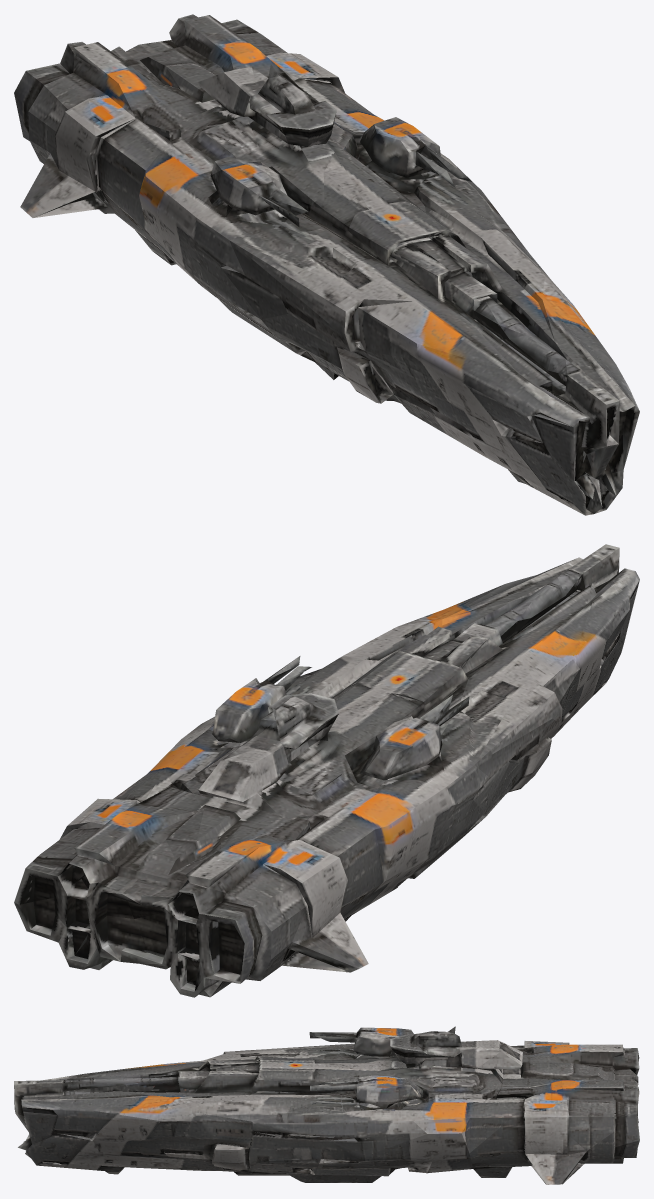
Rendered from hard-2000.glb.
3 views of the same model, one above another, from view 1: azimuth 30°, elevation 25°; view 2: azimuth 150°, elevation 25°; view 3: azimuth 270°, elevation 25° (orthographic). The views are drawn at different scales.
Parts seen in each view (by area): view 1: Low; view 2: Low; view 3: Low.
Boxes of the visible parts, left/top/right/bottom form: Low: left=14, top=14, right=639, bottom=515; Low: left=14, top=544, right=639, bottom=997; Low: left=14, top=1026, right=639, bottom=1184.
Bounding box in the file's own units: 0.3948 × 0.2502 × 0.9789.
Materials: 1 (1 with a texture image).
